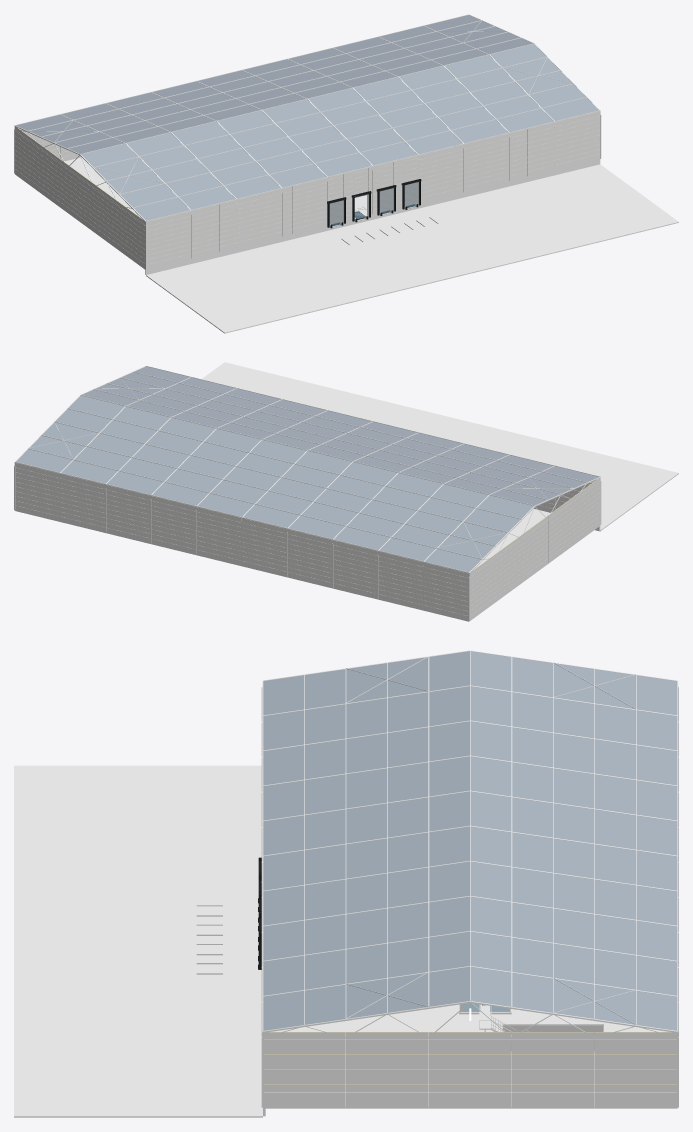
The picture shows the model from 3 angles, top to bottom: view 1: azimuth 30°, elevation 25°; view 2: azimuth 150°, elevation 25°; view 3: azimuth 270°, elevation 25°; orthographic projection. The views are drawn at different scales.
Visible parts, largest first — view 1: WH_Roof_Skin, WH_Truck_Yard, WH_Insulated_Panel_Skins, WH_Purlins_And_Roof_Bracing, WH_Primary_Trusses_And_Columns, WH_Superflat_Concrete_Floor, WH_Building_Columns, WH_Dock_Roller_Shutters, WH_Dock_Shelters_And_Buffers, WH_Insulated_Panel_Cores; view 2: WH_Roof_Skin, WH_Insulated_Panel_Skins, WH_Truck_Yard, WH_Purlins_And_Roof_Bracing, WH_Primary_Trusses_And_Columns, WH_Superflat_Concrete_Floor, WH_Building_Columns; view 3: WH_Roof_Skin, WH_Truck_Yard, WH_Insulated_Panel_Skins, WH_Primary_Trusses_And_Columns, WH_Purlins_And_Roof_Bracing, WH_Superflat_Concrete_Floor, WH_Insulated_Panel_Cores, WH_Office_And_Tower_Frames, WH_Building_Columns.
Part boxes in pixels (left/top/right/bottom): WH_Roof_Skin: left=16, top=15, right=598, bottom=220; WH_Truck_Yard: left=145, top=159, right=678, bottom=333; WH_Insulated_Panel_Skins: left=14, top=111, right=600, bottom=269; WH_Purlins_And_Roof_Bracing: left=15, top=14, right=600, bottom=221; WH_Primary_Trusses_And_Columns: left=14, top=14, right=600, bottom=225; WH_Superflat_Concrete_Floor: left=15, top=157, right=600, bottom=270; WH_Building_Columns: left=14, top=114, right=601, bottom=269; WH_Dock_Roller_Shutters: left=329, top=182, right=417, bottom=224; WH_Dock_Shelters_And_Buffers: left=327, top=179, right=421, bottom=228; WH_Insulated_Panel_Cores: left=17, top=112, right=599, bottom=262; WH_Roof_Skin: left=16, top=366, right=598, bottom=572; WH_Insulated_Panel_Skins: left=15, top=462, right=600, bottom=620; WH_Truck_Yard: left=202, top=362, right=678, bottom=531; WH_Purlins_And_Roof_Bracing: left=14, top=365, right=600, bottom=573; WH_Primary_Trusses_And_Columns: left=14, top=366, right=600, bottom=576; WH_Superflat_Concrete_Floor: left=15, top=509, right=599, bottom=621; WH_Building_Columns: left=14, top=466, right=601, bottom=621; WH_Roof_Skin: left=263, top=651, right=677, bottom=1030; WH_Truck_Yard: left=14, top=765, right=265, bottom=1117; WH_Insulated_Panel_Skins: left=262, top=682, right=678, bottom=1107; WH_Primary_Trusses_And_Columns: left=262, top=650, right=678, bottom=1038; WH_Purlins_And_Roof_Bracing: left=262, top=650, right=677, bottom=1031; WH_Superflat_Concrete_Floor: left=263, top=1004, right=677, bottom=1108; WH_Insulated_Panel_Cores: left=264, top=1032, right=676, bottom=1084; WH_Office_And_Tower_Frames: left=459, top=1004, right=603, bottom=1041; WH_Building_Columns: left=261, top=686, right=678, bottom=1107.
Size of the model in its own units: 100 by 15.55 by 80.15.
